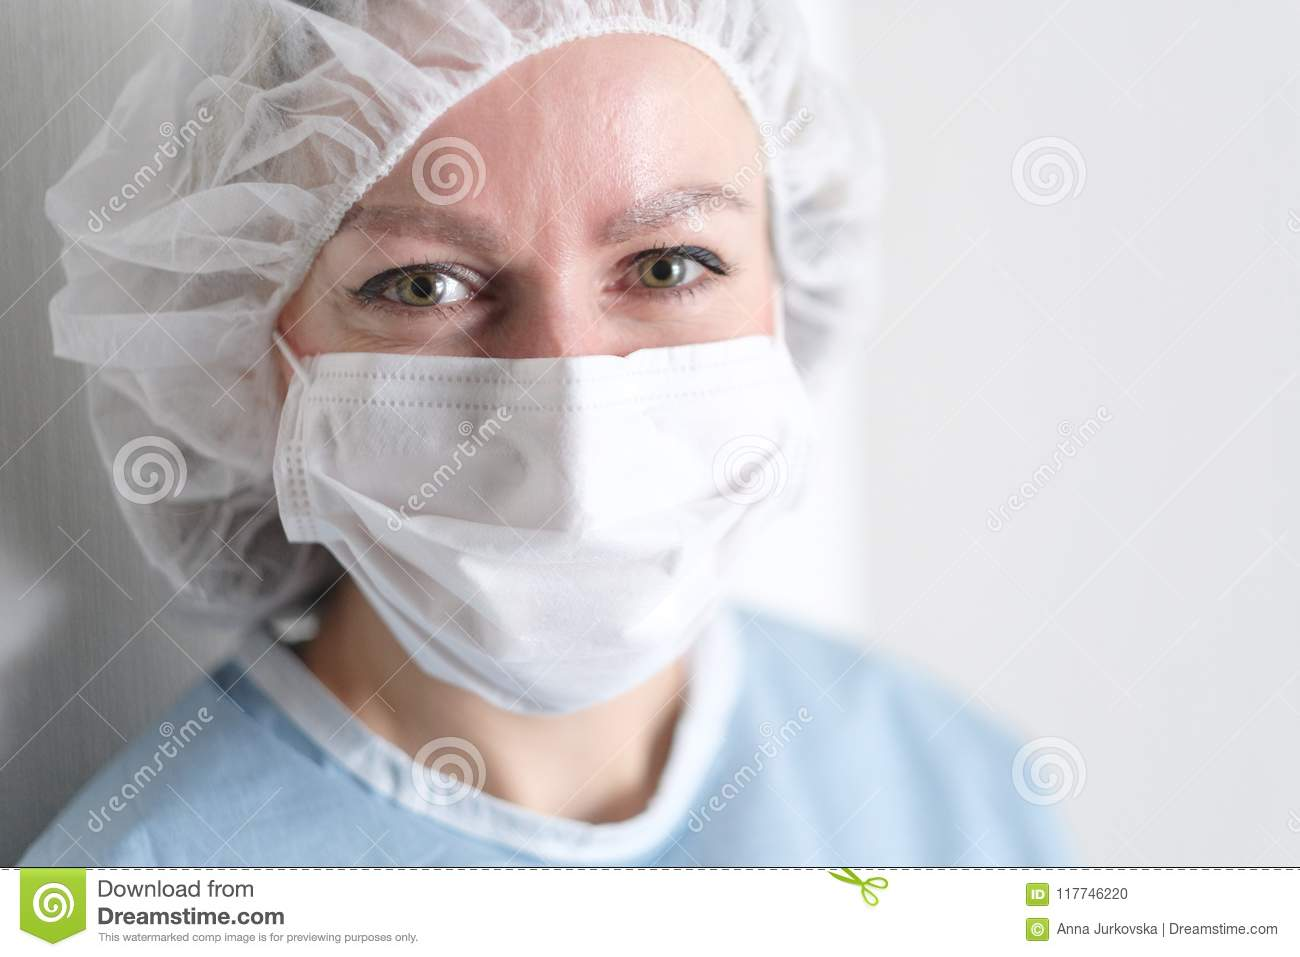mask: (316, 341, 823, 680)
